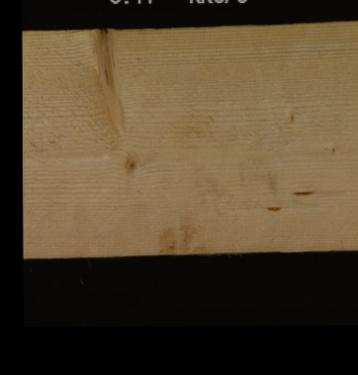small_knot: (120, 148, 138, 178)
